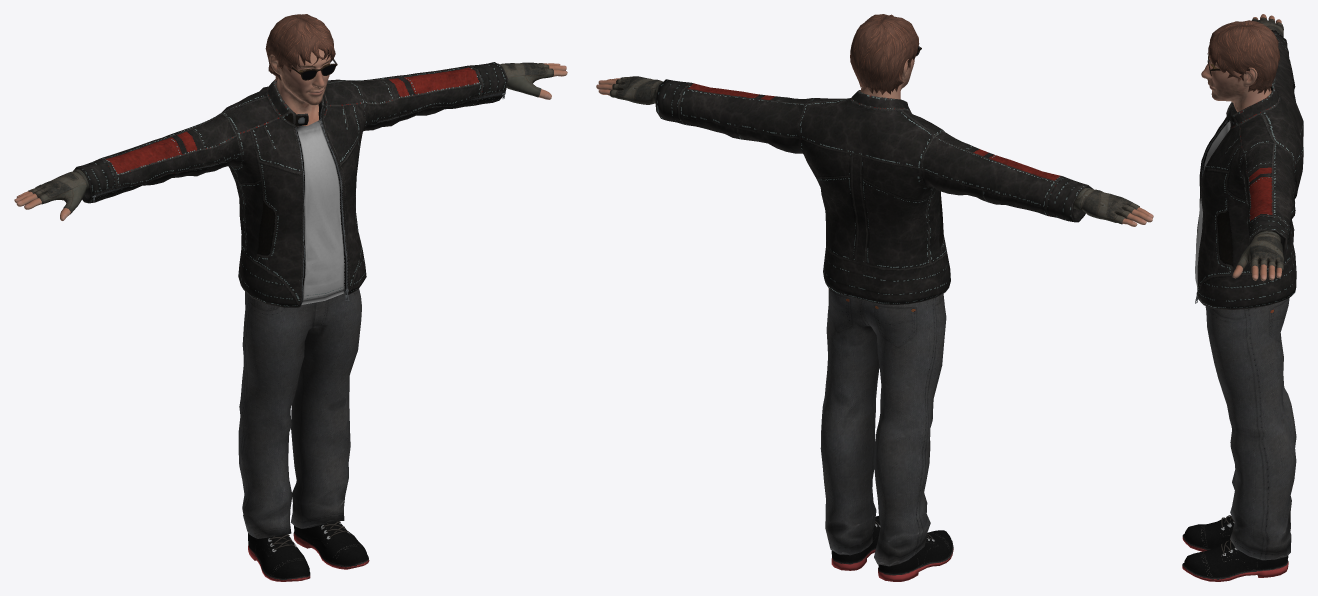
The model's file is rider.glb.
3 renders of one model, left to right at view 1: azimuth 30°, elevation 25°; view 2: azimuth 150°, elevation 25°; view 3: azimuth 270°, elevation 25°, orthographic.
Parts seen in each view (by area): view 1: Object_2, Object_5, Object_6, Object_8, Object_7, Object_3; view 2: Object_2, Object_5, Object_7, Object_6, Object_3, Object_8; view 3: Object_2, Object_5, Object_6, Object_7, Object_8, Object_3.
Part boxes in pixels (x1,y1,x2,y2): Object_2: (74, 62, 508, 307); Object_5: (238, 289, 361, 538); Object_6: (248, 521, 369, 581); Object_8: (14, 49, 567, 220); Object_7: (265, 14, 335, 80); Object_3: (28, 62, 553, 214); Object_2: (655, 79, 1093, 304); Object_5: (820, 288, 946, 566); Object_7: (850, 14, 919, 94); Object_6: (831, 516, 953, 581); Object_3: (609, 76, 1139, 224); Object_8: (596, 59, 1153, 226); Object_2: (1195, 30, 1303, 309); Object_5: (1205, 298, 1296, 560); Object_6: (1182, 515, 1288, 581); Object_7: (1207, 20, 1280, 94); Object_8: (1201, 14, 1282, 281); Object_3: (1236, 17, 1283, 270).
Size of the model in its own units: 194 by 181 by 37.38.
Materials: 7 (7 with a texture image).
